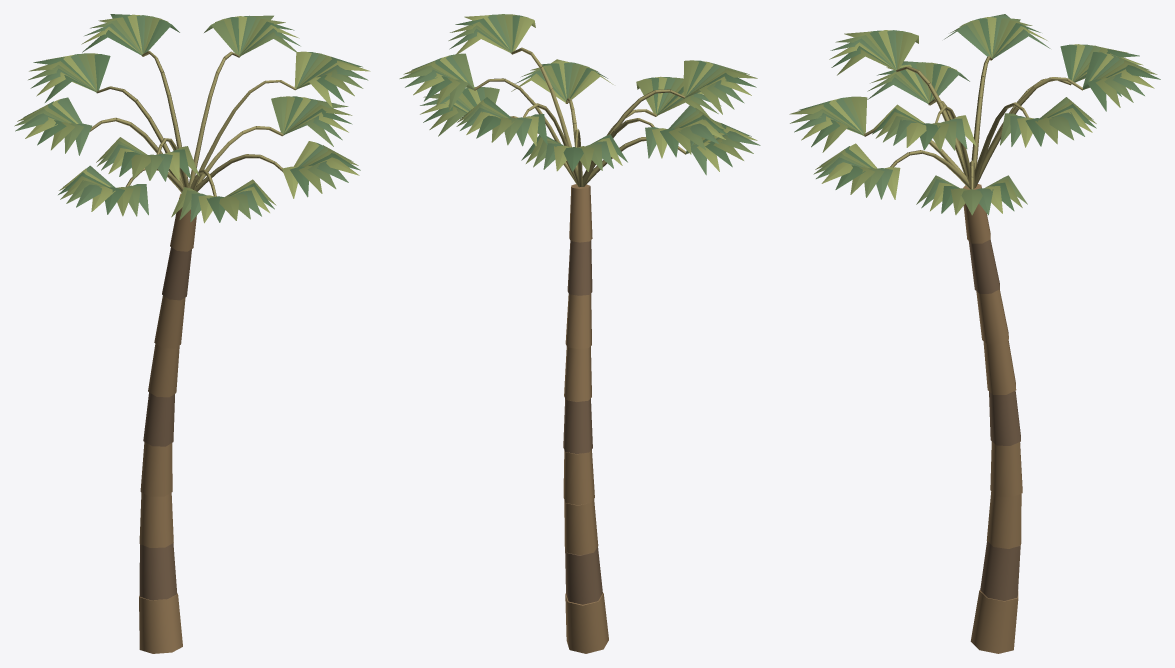
The model's file is fan-palm-mid.glb.
3 renders of one model, left to right at view 1: azimuth 30°, elevation 25°; view 2: azimuth 150°, elevation 25°; view 3: azimuth 270°, elevation 25°, orthographic. The views are drawn at different scales.
Parts seen in each view (by area): view 1: Crown_Foliage, Trunk_Wood; view 2: Crown_Foliage, Trunk_Wood; view 3: Crown_Foliage, Trunk_Wood.
Part boxes in pixels (bbox=[...]): Crown_Foliage: bbox=[14, 14, 370, 223]; Trunk_Wood: bbox=[90, 50, 296, 653]; Crown_Foliage: bbox=[399, 14, 760, 175]; Trunk_Wood: bbox=[474, 47, 686, 653]; Crown_Foliage: bbox=[789, 14, 1160, 215]; Trunk_Wood: bbox=[864, 56, 1082, 653].
Bounding box in the file's own units: 5.87 × 10.22 × 5.81.
